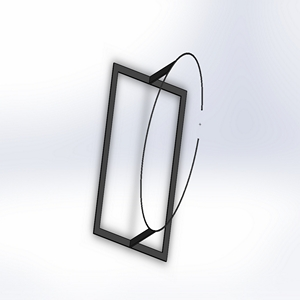circle: (91, 51, 208, 262)
